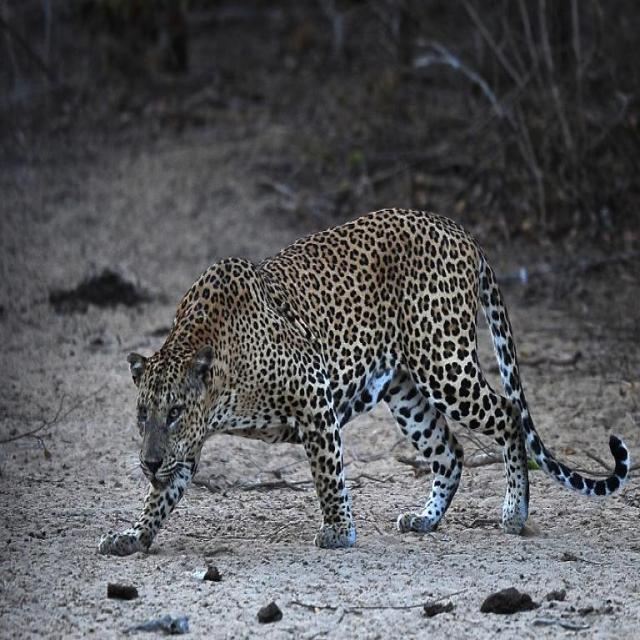Leopard: (98, 205, 630, 550)
